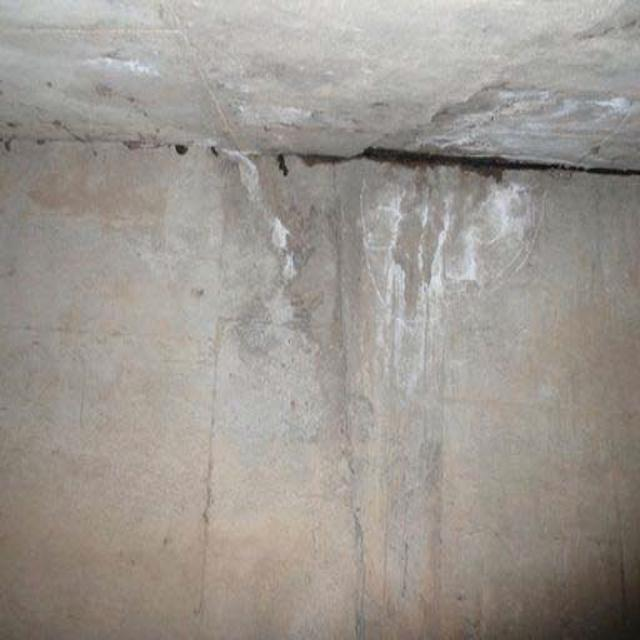freelime: (366, 193, 554, 328)
